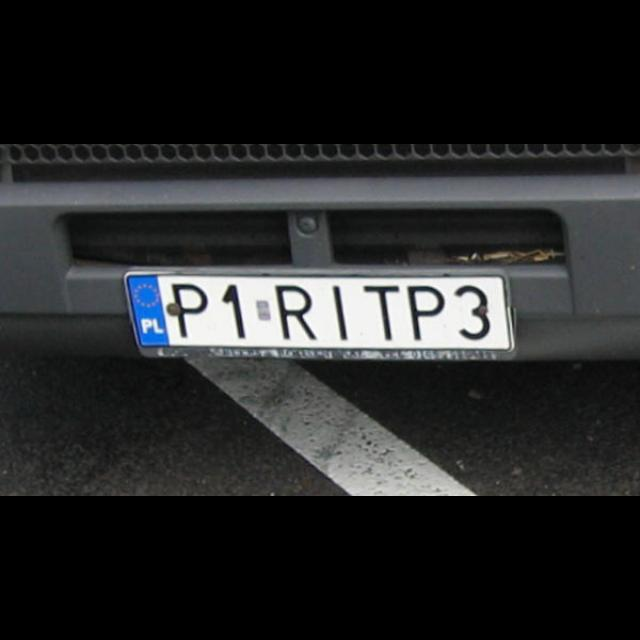pl_license_plate: (126, 274, 512, 348)
